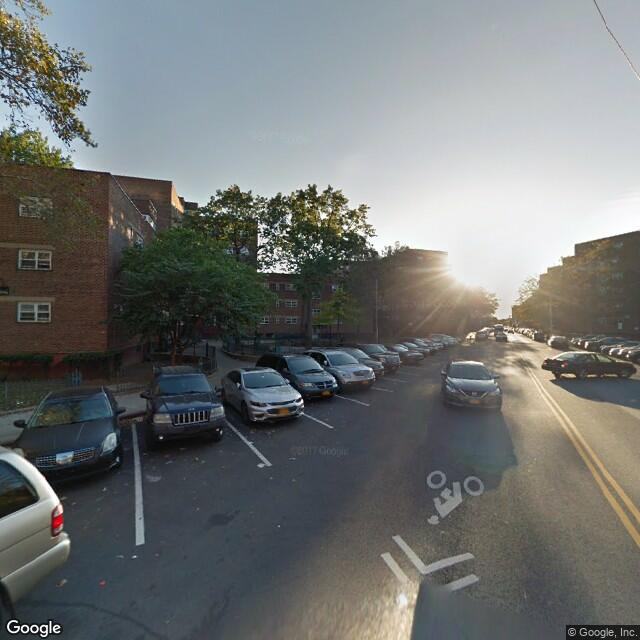litter: (258, 462, 263, 469), (102, 485, 105, 488), (132, 554, 136, 555)
